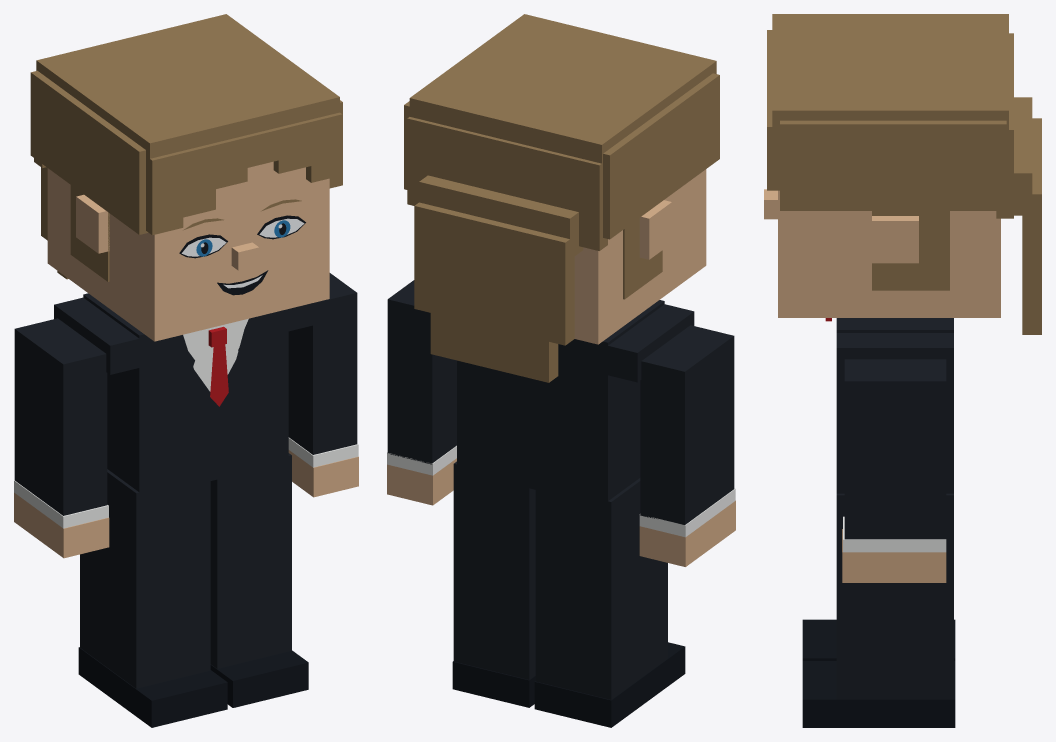
File: male_long.glb
The picture shows the model from 3 angles, left to right: view 1: azimuth 30°, elevation 25°; view 2: azimuth 150°, elevation 25°; view 3: azimuth 270°, elevation 25°; orthographic projection. The views are drawn at different scales.
Visible parts, largest first — view 1: char_hair_visual, char_torso_visual, char_head_visual, char_leg_negx_visual, char_arm_negx_visual, char_leg_posx_visual, char_arm_posx_visual, char_hand_negx_visual, char_hand_posx_visual, char_eye_posx_visual, char_eye_negx_visual; view 2: char_hair_visual, char_torso_visual, char_leg_negx_visual, char_arm_negx_visual, char_leg_posx_visual, char_head_visual, char_arm_posx_visual, char_hand_negx_visual, char_hand_posx_visual; view 3: char_hair_visual, char_head_visual, char_arm_posx_visual, char_leg_posx_visual, char_torso_visual, char_hand_posx_visual, char_leg_negx_visual.
Boxes of the visible parts, x1,y1,x2,y2 form: char_hair_visual: (30,14,342,281); char_torso_visual: (54,293,317,567); char_head_visual: (47,161,329,341); char_leg_negx_visual: (78,547,227,727); char_arm_negx_visual: (14,318,108,528); char_leg_posx_visual: (210,535,308,707); char_arm_posx_visual: (288,273,358,467); char_hand_negx_visual: (14,492,109,558); char_hand_posx_visual: (288,450,358,497); char_eye_posx_visual: (257,215,305,239); char_eye_negx_visual: (179,234,227,258); char_hair_visual: (404,14,719,382); char_torso_visual: (427,300,694,578); char_leg_negx_visual: (534,556,685,727); char_arm_negx_visual: (639,325,735,537); char_leg_posx_visual: (452,539,535,707); char_head_visual: (574,169,706,344); char_arm_posx_visual: (387,280,456,475); char_hand_negx_visual: (639,500,735,566); char_hand_posx_visual: (387,458,456,505); char_hair_visual: (767,14,1041,334); char_head_visual: (764,189,1000,317); char_arm_posx_visual: (843,359,946,552); char_leg_posx_visual: (802,579,955,727); char_torso_visual: (825,318,953,578); char_hand_posx_visual: (842,529,946,582); char_leg_negx_visual: (802,619,955,660).
Size of the model in its own units: 0.91 by 1.77 by 0.711.
